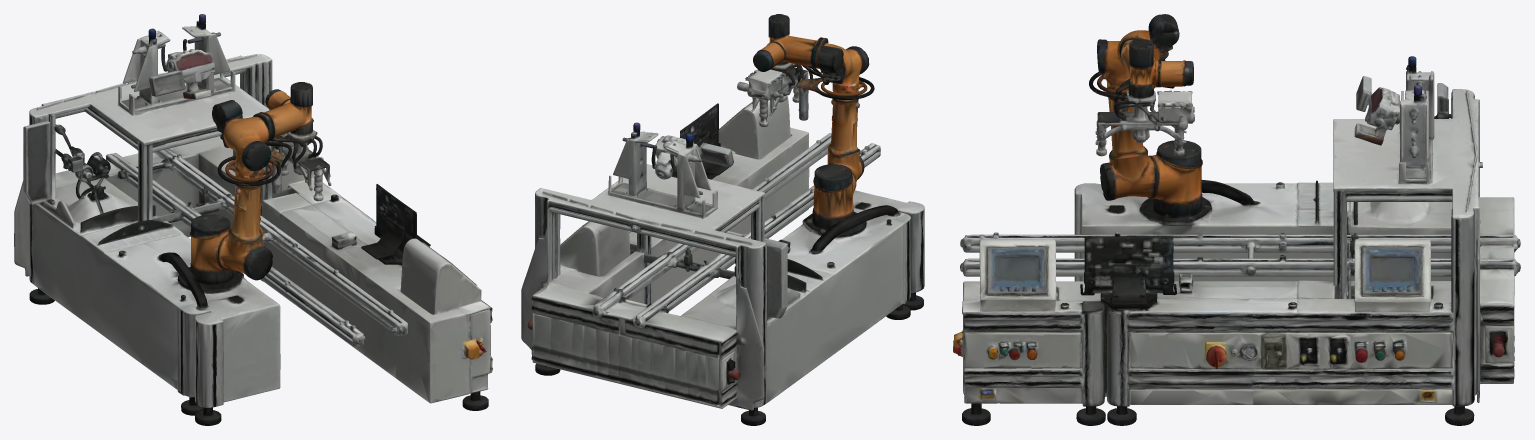
File: robot_arm.glb
3 renders of one model, left to right at view 1: azimuth 30°, elevation 25°; view 2: azimuth 150°, elevation 25°; view 3: azimuth 270°, elevation 25°, orthographic. The views are drawn at different scales.
Parts seen in each view (by area): view 1: tripo_node_1966e1ef-83bc-4128-b2a6-c1042822317e; view 2: tripo_node_1966e1ef-83bc-4128-b2a6-c1042822317e; view 3: tripo_node_1966e1ef-83bc-4128-b2a6-c1042822317e.
Part boxes in pixels (x1,y1,x2,y2): tripo_node_1966e1ef-83bc-4128-b2a6-c1042822317e: (14, 14, 492, 425); tripo_node_1966e1ef-83bc-4128-b2a6-c1042822317e: (521, 14, 924, 425); tripo_node_1966e1ef-83bc-4128-b2a6-c1042822317e: (953, 14, 1520, 425).
Size of the model in its own units: 0.5955 by 0.6139 by 0.9766.
Materials: 1 (1 with a texture image).
